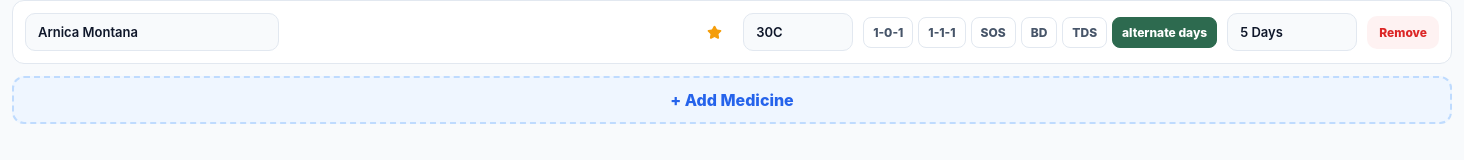
Test: PrescriptionEditor — custom frequency entry (Issue 2 fix) › re-opening the custom input after a value was already set pre-fills it for editing
This screenshot has width=1464, height=160.
Click the button "alternate days". click: (1165, 32)
box: [1112,16,1217,48]
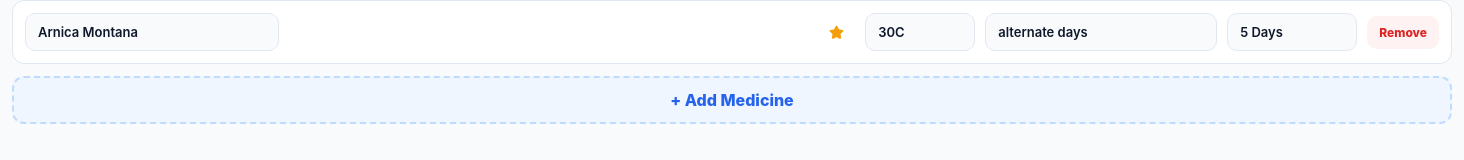
Now the 3rd field with placeholder "e.g. 1-0-1 after food, SOS, alternate days" holds "alternate days", box [985,13,1217,51]
